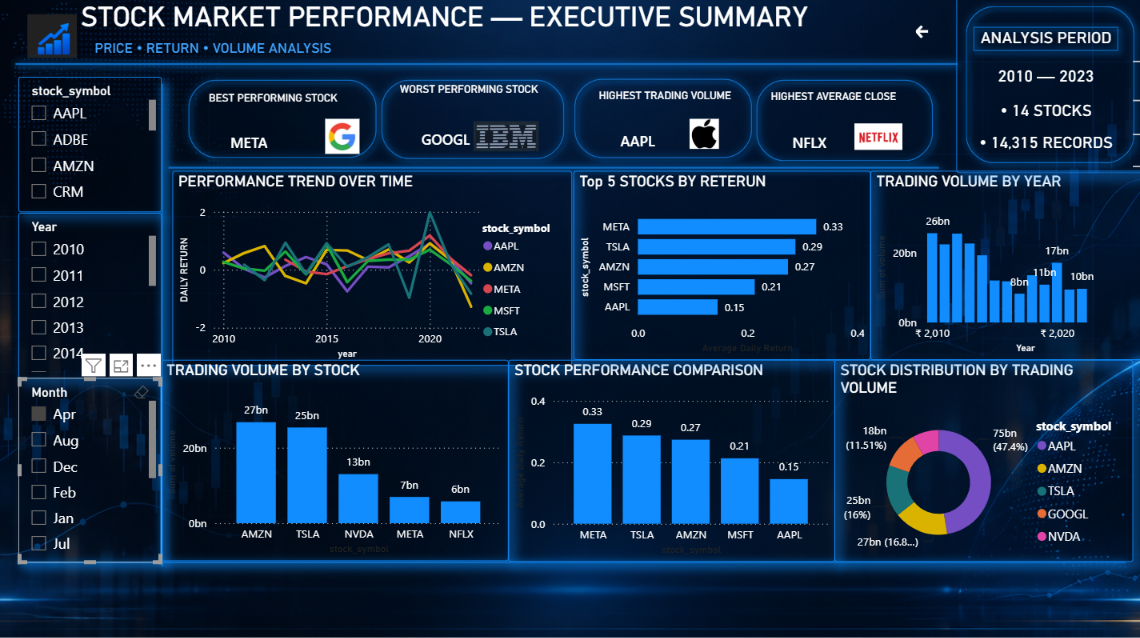

Layout of this report page (visuals, bound fields, positions):
{"tool":"powerbi","page":{"name":"DETAILED_ANALYSIS","canvas":[1280,720],"ordinal":2},"visuals":[{"type":"lineChart","title":"PERFORMANCE TREND OVER TIME","fields":{"Category":["big_tech_stock_prices.date.Variation.Date Hierarchy.Year"],"Series":["big_tech_stock_prices.stock_symbol"],"Y":["big_tech_stock_prices.Average Daily Return"]},"box":[194.2,194.2,446.4,217.4],"z":0},{"type":"donutChart","title":"STOCK DISTRIBUTION BY TRADING VOLUME","fields":{"Category":["big_tech_stock_prices.stock_symbol"],"Y":["Sum(big_tech_stock_prices.volume)"]},"box":[933.7,405.8,333.6,225.3],"z":1000},{"type":"clusteredColumnChart","title":"TRADING VOLUME BY STOCK","fields":{"Category":["big_tech_stock_prices.stock_symbol"],"Y":["Sum(big_tech_stock_prices.volume)"]},"box":[181.2,405.8,388.4,224.6],"z":2000},{"type":"clusteredColumnChart","title":"STOCK PERFORMANCE COMPARISON","fields":{"Category":["big_tech_stock_prices.stock_symbol"],"Y":["big_tech_stock_prices.Average Daily Return"]},"box":[569.2,405.8,364.5,225.3],"z":3000},{"type":"slicer","fields":{"Values":["big_tech_stock_prices.stock_symbol"]},"box":[22.2,88.9,160,151.1],"z":4000},{"type":"cardVisual","title":"HIGHEST AVERAGE CLOSE","fields":{"Data":["big_tech_stock_prices.Highest Average Close Stock"]},"box":[857.4,103.9,155.3,89.6],"z":5000},{"type":"shape","box":[203.1,83.9,227.9,105.1],"z":6000},{"type":"image","box":[530.3,137,72.8,37],"z":7000},{"type":"image","box":[764.1,135.8,49,33.4],"z":8000},{"type":"textbox","title":"STOCK MARKET PERFORMANCE — EXECUTIVE SUMMARY","box":[87,17.4,876.6,52.5],"z":9000},{"type":"image","box":[32,18,55,52],"z":10000},{"type":"textbox","title":"PRICE • RETURN • VOLUME ANALYSIS","box":[87,59,734,22],"z":11000},{"type":"slicer","fields":{"Values":["big_tech_stock_prices.date.Variation.Date Hierarchy.Year"]},"box":[22.2,241.1,160,184.4],"z":12000},{"type":"slicer","fields":{"Values":["big_tech_stock_prices.Month"]},"box":[22.2,425.6,160,206.7],"z":13000},{"type":"shape","box":[419.3,83.9,222,106.3],"z":14000},{"type":"shape","box":[634.2,82.7,216.1,106.3],"z":15000},{"type":"shape","box":[12.8,601.2,1255.8,61.6],"z":16000},{"type":"shape","box":[134.9,88.4,95.6,556.7],"z":17000},{"type":"shape","box":[181.2,159.4,878.3,62.3],"z":18000},{"type":"shape","box":[0,49.3,1069.6,60.9],"z":19000},{"type":"shape","box":[837.4,83.9,214.9,108.7],"z":20000},{"type":"image","box":[353.1,135.8,62.6,39],"z":21000},{"type":"clusteredColumnChart","title":"TRADING VOLUME BY YEAR","fields":{"Category":["big_tech_stock_prices.date.Variation.Date Hierarchy.Year"],"Y":["Sum(big_tech_stock_prices.volume)"]},"box":[973.9,194.2,305.8,211.6],"z":22000},{"type":"clusteredBarChart","title":"Top 5 STOCKS BY RETERUN","fields":{"Category":["big_tech_stock_prices.stock_symbol"],"Y":["big_tech_stock_prices.Average Daily Return"]},"box":[642,194.2,331.9,211.6],"z":23000},{"type":"cardVisual","title":"HIGHEST TRADING VOLUME","fields":{"Data":["big_tech_stock_prices.Highest Volume Stock"]},"box":[665.2,102.9,172.4,88.6],"z":24000},{"type":"cardVisual","title":"WORST PERFORMING STOCK","fields":{"Data":["big_tech_stock_prices.Worst Performing Stock"]},"box":[443,96.5,198.4,100.4],"z":25000},{"type":"cardVisual","title":"BEST PERFORMING STOCK","fields":{"Data":["big_tech_stock_prices.Highest Average Return"]},"box":[230.3,106.3,155.3,87.2],"z":26000},{"type":"image","box":[955.5,137,53.7,37],"z":27000},{"type":"shape","box":[1069.6,0,210.1,197.1],"z":28000},{"type":"textbox","title":"2010 — 2023","box":[1059.4,78.3,220.3,43.5],"z":29000},{"type":"textbox","title":"ANALYSIS PERIOD","box":[1059.4,34.8,220.3,43.5],"z":30000},{"type":"textbox","title":" •   14 STOCKS       ","box":[1059.4,115.9,220.3,43.5],"z":31000},{"type":"textbox","title":"        •     14,315 RECORDS","box":[1059.4,152.2,220.3,43.5],"z":32000},{"type":"shape","box":[1079.7,24.6,179.7,44.9],"z":33000},{"type":"actionButton","box":[1011.6,18.8,47.8,40.6],"z":34000}]}

Visuals, with their boxes in screenshot pixels (x1, y1, x2, y2), scaled from the page's 1280x720 canvas onto the 1140x638 screenshot:
"PERFORMANCE TREND OVER TIME" lineChart: <region>173, 172, 571, 365</region>
"STOCK DISTRIBUTION BY TRADING VOLUME" donutChart: <region>832, 360, 1129, 559</region>
"TRADING VOLUME BY STOCK" clusteredColumnChart: <region>161, 360, 507, 559</region>
"STOCK PERFORMANCE COMPARISON" clusteredColumnChart: <region>507, 360, 832, 559</region>
slicer - big_tech_stock_prices.stock_symbol: <region>20, 79, 162, 213</region>
"HIGHEST AVERAGE CLOSE" cardVisual: <region>764, 92, 902, 171</region>
shape: <region>181, 74, 384, 167</region>
image: <region>472, 121, 537, 154</region>
image: <region>681, 120, 724, 150</region>
"STOCK MARKET PERFORMANCE — EXECUTIVE SUMMARY" textbox: <region>77, 15, 858, 62</region>
image: <region>28, 16, 77, 62</region>
"PRICE • RETURN • VOLUME ANALYSIS" textbox: <region>77, 52, 731, 72</region>
slicer - big_tech_stock_prices.date.Variation.Date Hierarchy.Year: <region>20, 214, 162, 377</region>
slicer - big_tech_stock_prices.Month: <region>20, 377, 162, 560</region>
shape: <region>373, 74, 571, 169</region>
shape: <region>565, 73, 757, 167</region>
shape: <region>11, 533, 1130, 587</region>
shape: <region>120, 78, 205, 572</region>
shape: <region>161, 141, 944, 196</region>
shape: <region>0, 44, 953, 98</region>
shape: <region>746, 74, 937, 171</region>
image: <region>314, 120, 370, 155</region>
"TRADING VOLUME BY YEAR" clusteredColumnChart: <region>867, 172, 1139, 360</region>
"Top 5 STOCKS BY RETERUN" clusteredBarChart: <region>572, 172, 867, 360</region>
"HIGHEST TRADING VOLUME" cardVisual: <region>592, 91, 746, 170</region>
"WORST PERFORMING STOCK" cardVisual: <region>395, 86, 571, 174</region>
"BEST PERFORMING STOCK" cardVisual: <region>205, 94, 343, 171</region>
image: <region>851, 121, 899, 154</region>
shape: <region>953, 0, 1139, 175</region>
"2010 — 2023" textbox: <region>944, 69, 1139, 108</region>
"ANALYSIS PERIOD" textbox: <region>944, 31, 1139, 69</region>
" •   14 STOCKS       " textbox: <region>944, 103, 1139, 141</region>
"        •     14,315 RECORDS" textbox: <region>944, 135, 1139, 173</region>
shape: <region>962, 22, 1122, 62</region>
actionButton: <region>901, 17, 944, 53</region>
